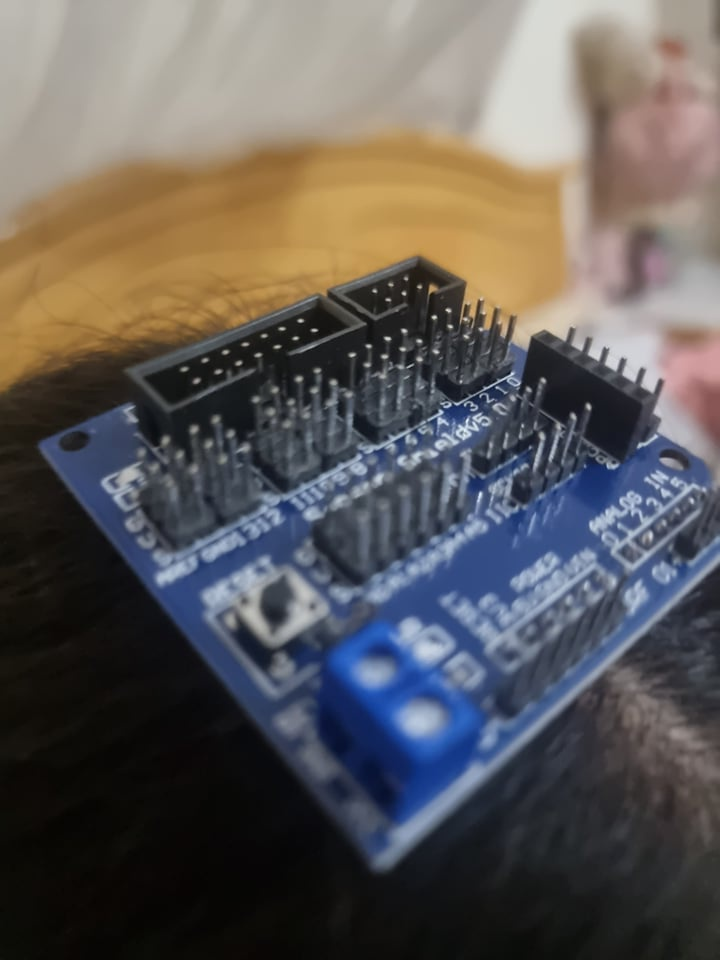5V EXPANSION: (42, 248, 720, 873)
